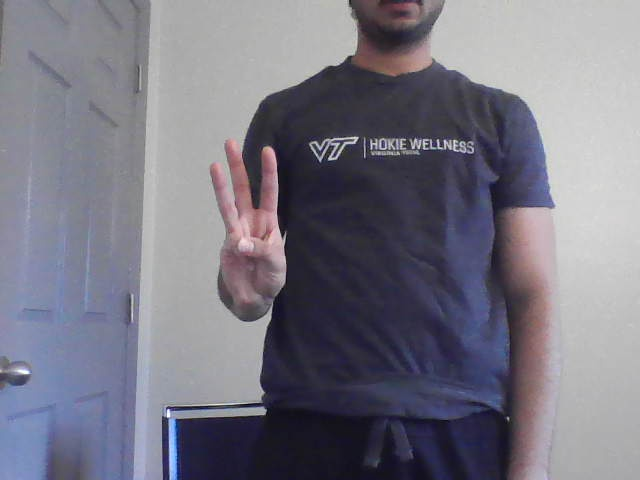three: (205, 134, 292, 305)
